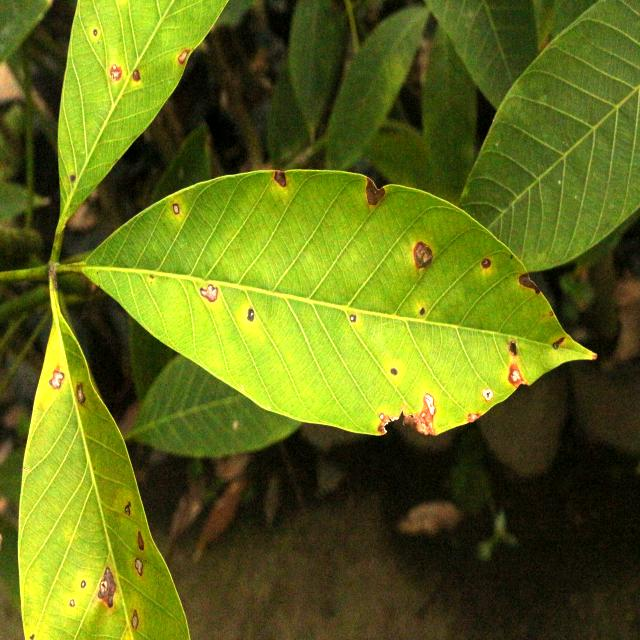Colletotrichum: (414, 240, 434, 270), (134, 557, 144, 577), (76, 384, 86, 404), (482, 387, 493, 402), (137, 532, 145, 552), (132, 609, 138, 630), (481, 258, 491, 270), (246, 308, 254, 322), (132, 69, 139, 82), (172, 203, 180, 214), (124, 505, 130, 516), (390, 367, 397, 376), (553, 341, 558, 351), (80, 580, 86, 588), (350, 315, 355, 322), (380, 413, 384, 420), (70, 600, 74, 607), (71, 175, 75, 181), (94, 30, 98, 36), (550, 312, 553, 316)
Leaf-Blight: (379, 391, 436, 436)
